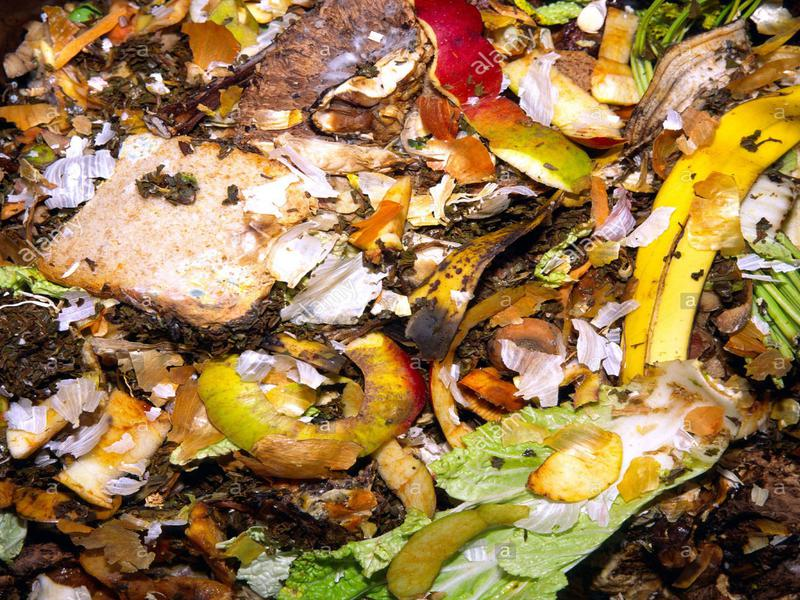vegetation: (2, 3, 800, 600)
